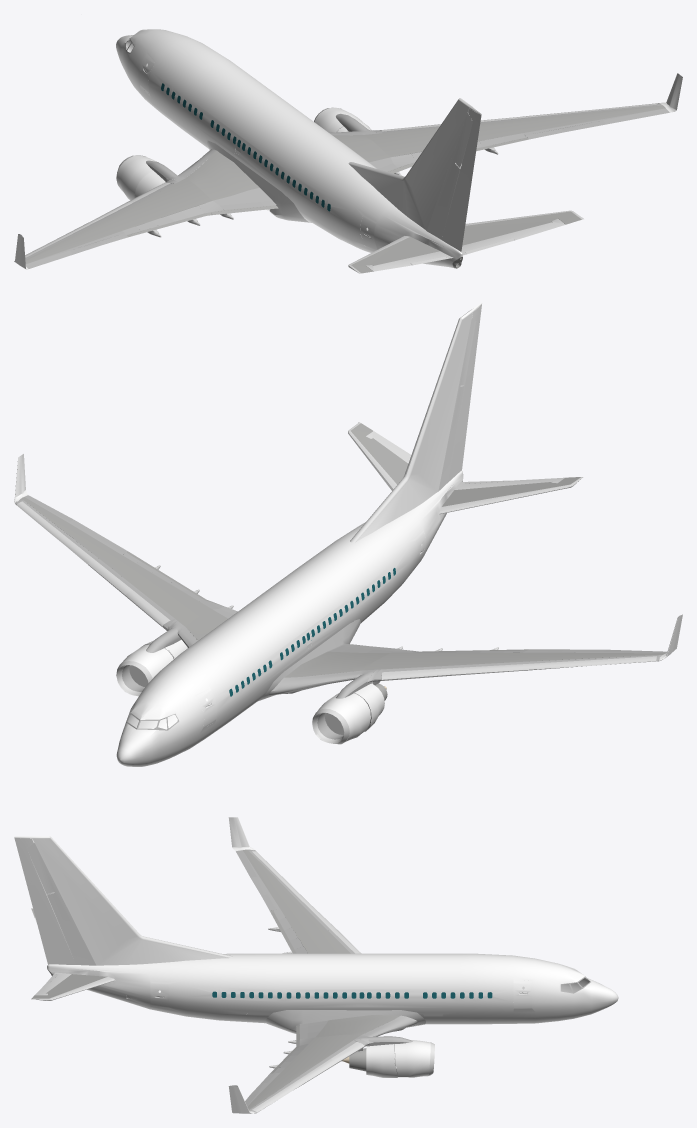
The picture shows the model from 3 angles, top to bottom: view 1: azimuth 30°, elevation 25°; view 2: azimuth 150°, elevation 25°; view 3: azimuth 270°, elevation 25°; orthographic projection. The views are drawn at different scales.
Parts seen in each view (by area): view 1: fuselage, vstab, obwing, obwing.001, rudder, winginbd, rhstab, lhstab, lhfairing, engnose.001, panel1upper, windowslh (+11 smaller); view 2: fuselage, vstab, obwing.001, obwing, lhstab, rhstab, winginbd, rudder, vstable, engnose.001, ible, lhfairing (+4 smaller); view 3: fuselage, vstab, obwing, rudder, obwing.001, rhwtobfairing, No2engfancase, winginbd.001, windowsrh, rhstab, No2reverser, vstable (+5 smaller).
Part boxes in pixels (x1,y1,x2,y2): fuselage: (116,29,462,268); vstab: (350,98,481,239); obwing: (25,178,212,263); obwing.001: (363,105,665,157); rudder: (441,108,481,252); winginbd: (186,150,259,200); rhstab: (462,210,583,245); lhstab: (348,236,439,273); lhfairing: (206,140,311,222); engnose.001: (116,155,156,200); panel1upper: (199,188,276,213); windowslh: (161,83,330,211); fuselage: (116,470,463,766); vstab: (356,302,482,541); obwing.001: (21,497,212,626); obwing: (364,652,665,670); lhstab: (439,477,583,514); rhstab: (348,422,408,490); winginbd: (284,651,389,677); rudder: (448,304,481,482); vstable: (350,317,462,542); engnose.001: (318,693,370,744); ible: (269,669,376,695); lhfairing: (258,619,360,700); fuselage: (47,953,618,1024); vstab: (14,836,228,965); obwing: (243,849,350,953); rudder: (14,838,75,964); obwing.001: (247,1034,360,1109); rhwtobfairing: (265,1010,425,1033); No2engfancase: (395,1040,430,1077); winginbd.001: (315,1015,400,1037); windowsrh: (212,991,492,998); rhstab: (31,974,115,1000); No2reverser: (366,1044,397,1077); vstable: (49,836,232,957).
Size of the model in its own units: 34.85 by 12.04 by 36.64.
